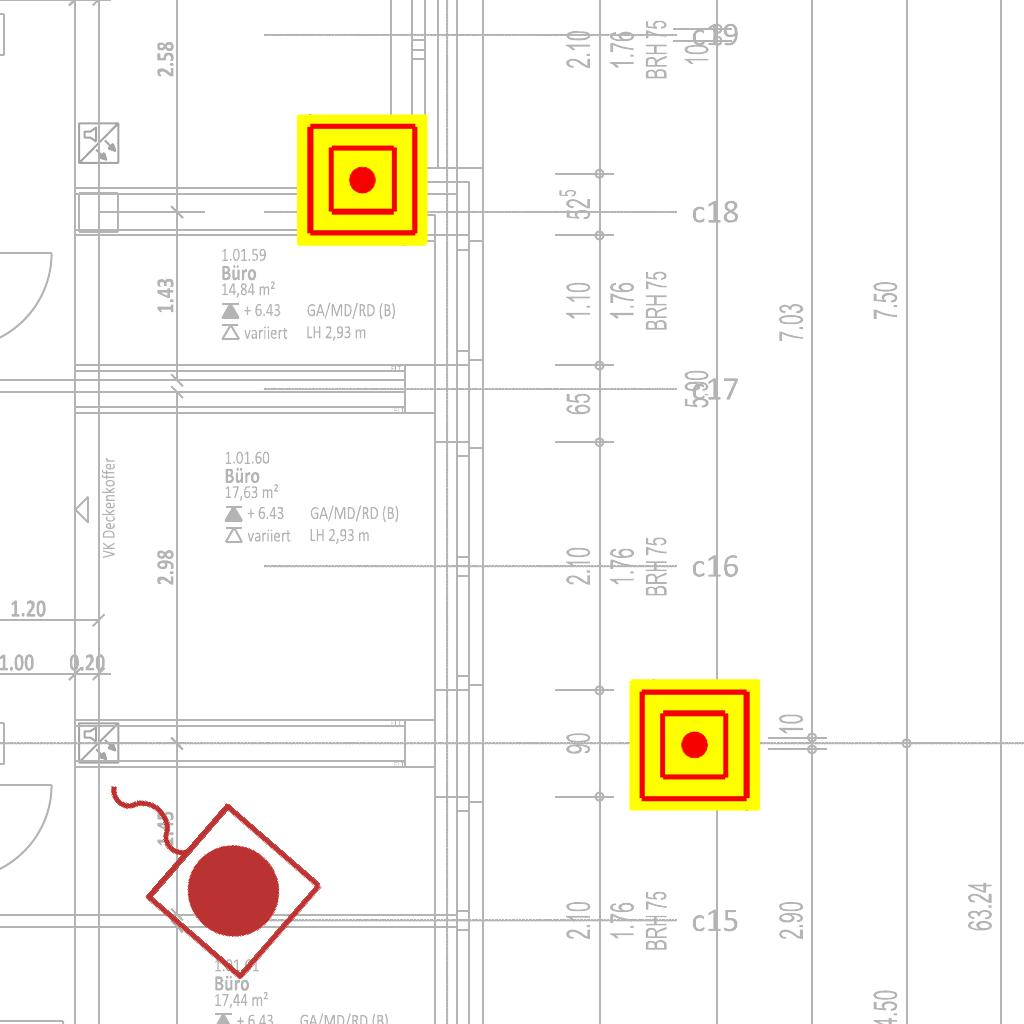NAM-Nichtautomatischer_Melder: (629, 679, 761, 811), (296, 114, 428, 246)
Zugtaster: (57, 722, 337, 992)
